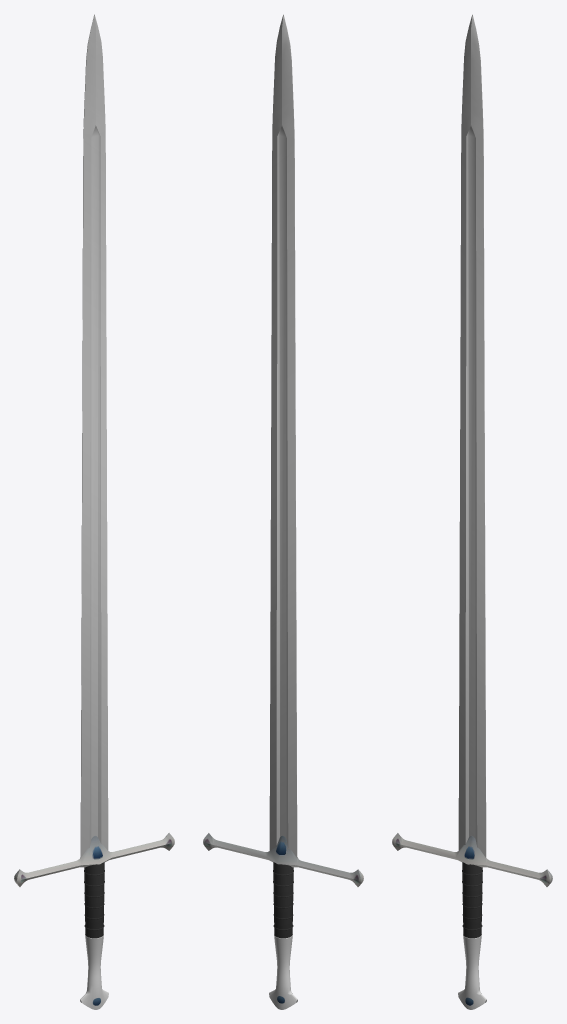
Rendered from Anduril.obj.
The picture shows the model from 3 angles, left to right: view 1: azimuth 30°, elevation 25°; view 2: azimuth 150°, elevation 25°; view 3: azimuth 330°, elevation 25°; orthographic projection.
Visible parts, largest first — view 1: pCube1, pCube3, pCylinder1, pCylinder2; view 2: pCube1, pCube3, pCylinder1, pCylinder2; view 3: pCube1, pCube3, pCylinder1, pCylinder2.
Boxes of the visible parts, x1,y1,x2,y2 form: pCube1: [80, 14, 108, 857]; pCube3: [14, 833, 174, 886]; pCylinder1: [84, 862, 104, 938]; pCylinder2: [80, 934, 108, 1009]; pCube1: [269, 14, 297, 857]; pCube3: [203, 833, 363, 886]; pCylinder1: [273, 862, 293, 938]; pCylinder2: [269, 934, 297, 1009]; pCube1: [458, 14, 486, 857]; pCube3: [392, 833, 552, 886]; pCylinder1: [462, 862, 482, 938]; pCylinder2: [458, 934, 486, 1009].
Bounding box in the file's own units: 5.27 × 31.72 × 0.6544.
Materials: 1 (1 with a texture image).
